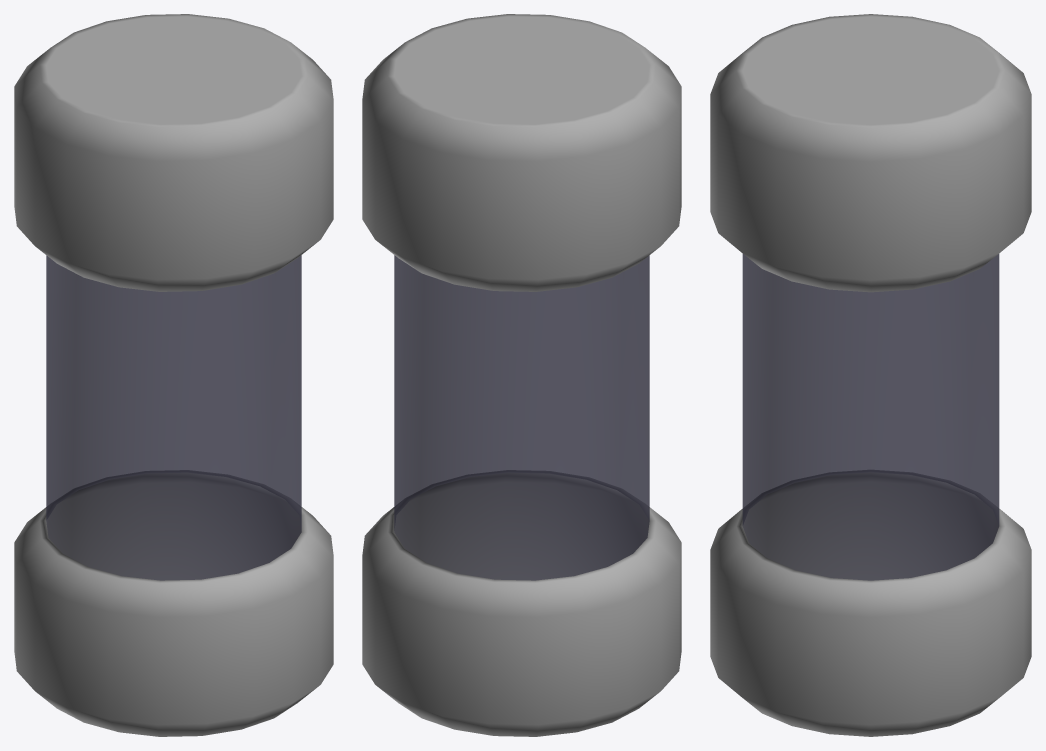
Rendered from Environment_Barrel_0021_Mesh.fbx.
The picture shows the model from 3 angles, left to right: view 1: azimuth 30°, elevation 25°; view 2: azimuth 150°, elevation 25°; view 3: azimuth 270°, elevation 25°; orthographic projection.
Parts seen in each view (by area): view 1: barrel_2_1; view 2: barrel_2_1; view 3: barrel_2_1.
Boxes of the visible parts, x1,y1,x2,y2 form: barrel_2_1: (14,14,333,736); barrel_2_1: (362,14,681,736); barrel_2_1: (710,14,1031,736).
Size of the model in its own units: 111 by 232 by 111.
